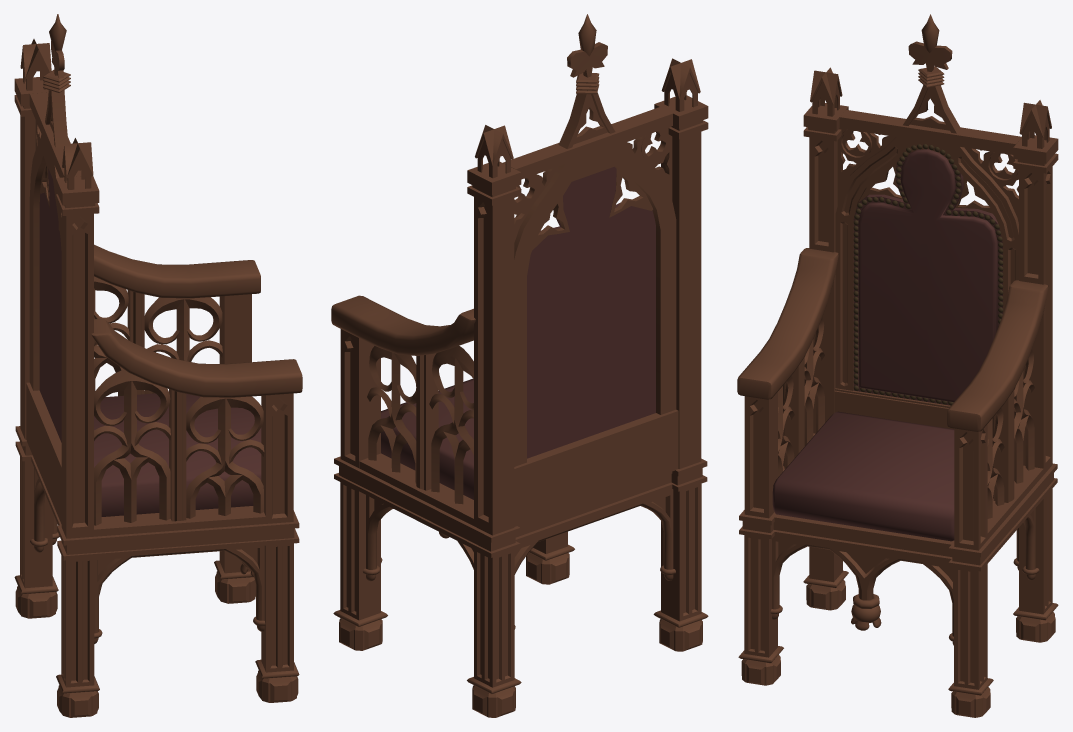
The model's file is HarryPotterChair.dae.
The picture shows the model from 3 angles, left to right: view 1: azimuth 30°, elevation 25°; view 2: azimuth 150°, elevation 25°; view 3: azimuth 270°, elevation 25°; orthographic projection. The views are drawn at different scales.
Parts seen in each view (by area): view 1: Box670; view 2: Box670; view 3: Box670.
Part boxes in pixels (box(x1,y1,x2,y2)): Box670: box(14, 14, 302, 717); Box670: box(331, 14, 708, 717); Box670: box(737, 14, 1058, 717).
Bounding box in the file's own units: 0.8901 × 0.9454 × 1.97.
